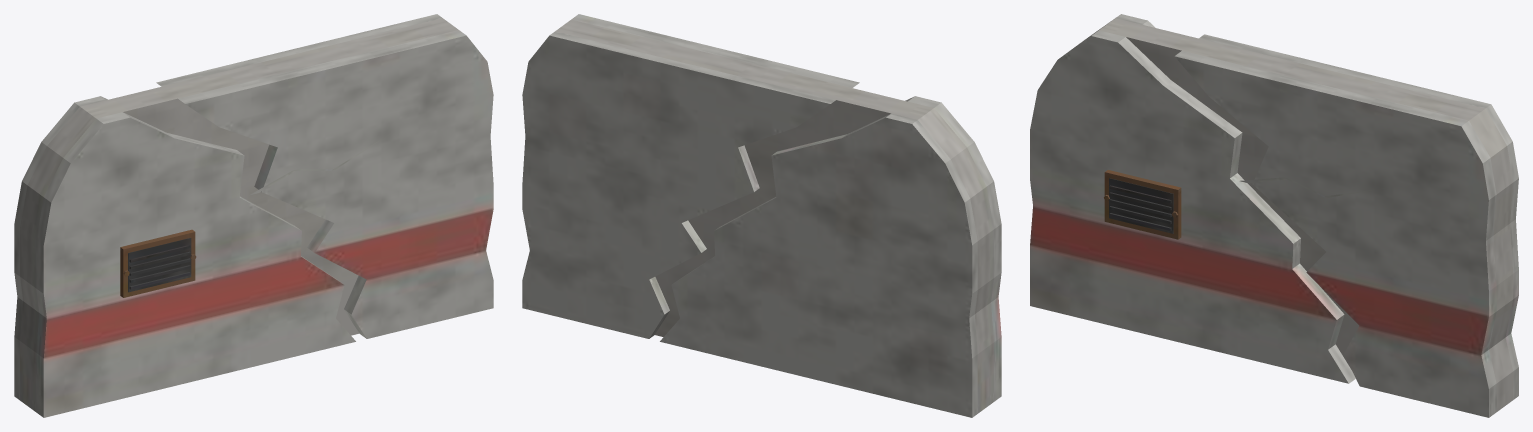
File: BR16_cracked_wall_panel_v2.glb
The picture shows the model from 3 angles, left to right: view 1: azimuth 30°, elevation 25°; view 2: azimuth 150°, elevation 25°; view 3: azimuth 330°, elevation 25°; orthographic projection. The views are drawn at different scales.
Parts seen in each view (by area): view 1: Recessed masonry core; view 2: Recessed masonry core; view 3: Recessed masonry core.
Boxes of the visible parts, box(x1,y1,x2,y2) form: Recessed masonry core: box(14, 14, 493, 417); Recessed masonry core: box(522, 14, 1001, 417); Recessed masonry core: box(1030, 14, 1518, 417).
Bounding box in the file's own units: 3 × 1.78 × 0.392.
6 materials, 6 textured.
